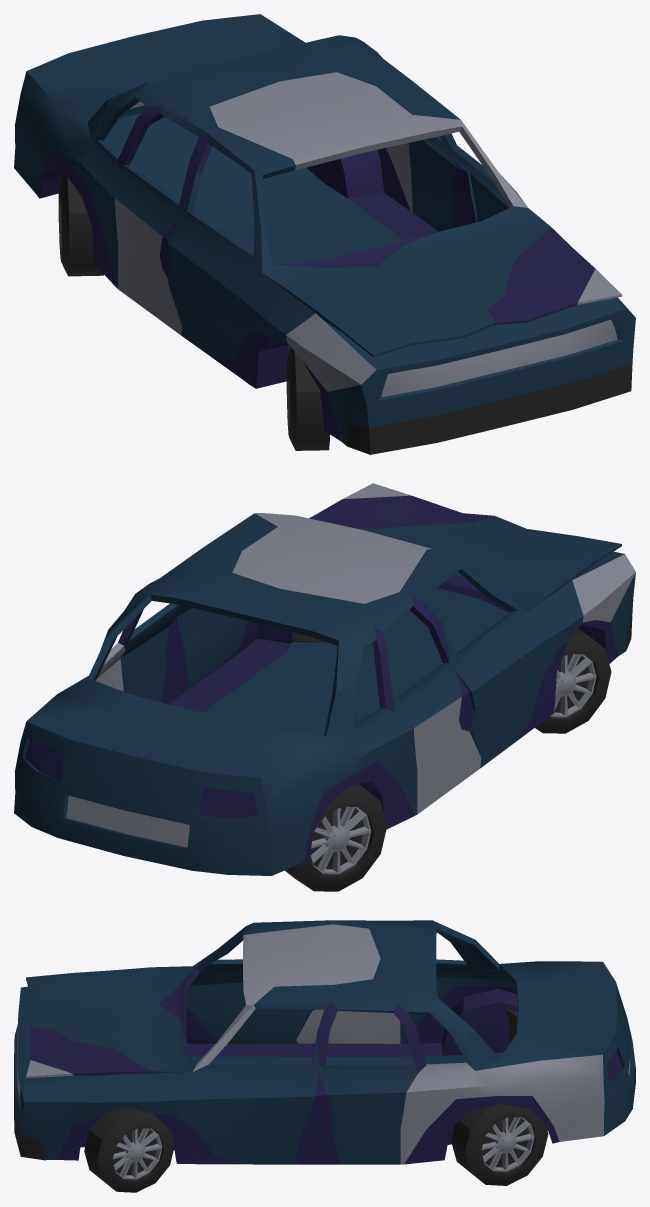
The model's file is Broken Car 4.glb.
The picture shows the model from 3 angles, top to bottom: view 1: azimuth 30°, elevation 25°; view 2: azimuth 150°, elevation 25°; view 3: azimuth 270°, elevation 25°; orthographic projection. The views are drawn at different scales.
Parts seen in each view (by area): view 1: Debris_BrokenCar; view 2: Debris_BrokenCar; view 3: Debris_BrokenCar.
Part boxes in pixels (<box>): Debris_BrokenCar: <box>14,14,635,454</box>; Debris_BrokenCar: <box>14,483,635,891</box>; Debris_BrokenCar: <box>14,920,635,1192</box>.
Size of the model in its own units: 2.64 by 1.76 by 5.49.
